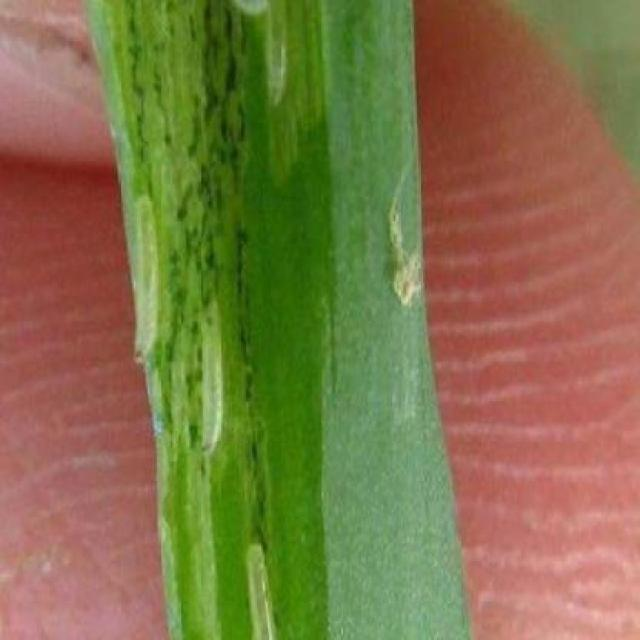whorl-maggot: (132, 178, 162, 377), (198, 289, 228, 474), (242, 538, 282, 640), (260, 0, 294, 111)
